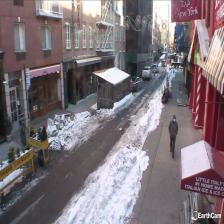person: (168, 115, 178, 157)
